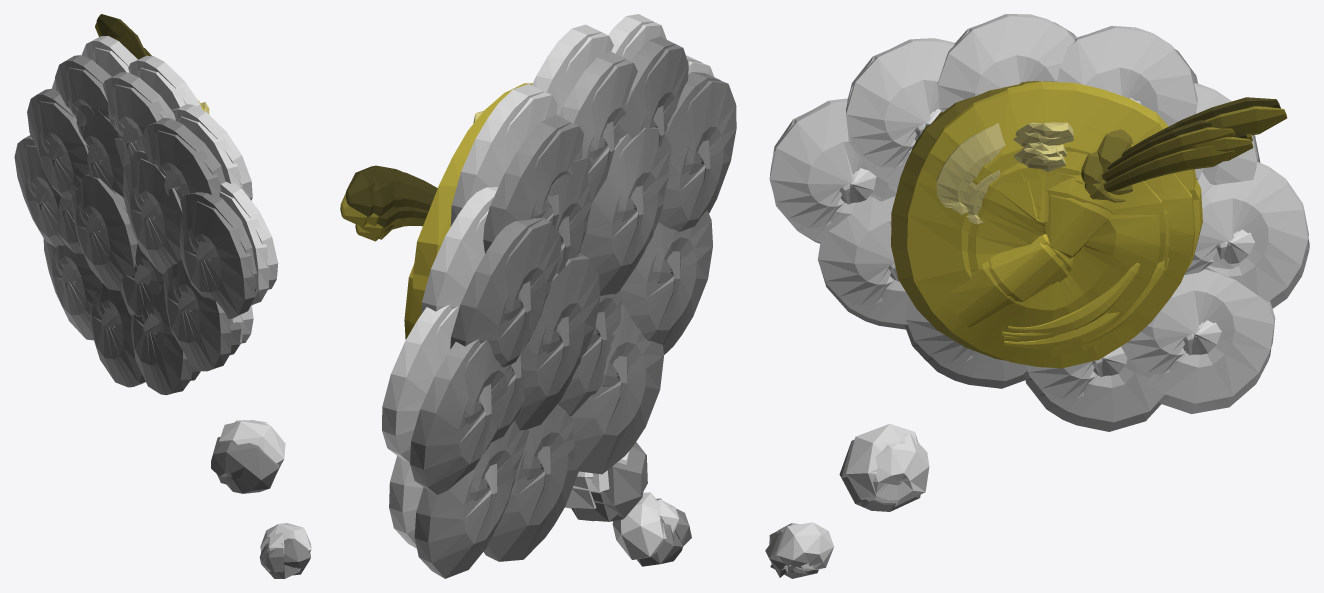
The model's file is WantApple.fbx.
3 views of the same model, side by side, from view 1: azimuth 30°, elevation 25°; view 2: azimuth 150°, elevation 25°; view 3: azimuth 270°, elevation 25° (orthographic). The views are drawn at different scales.
Visible parts, largest first — view 1: Apple; view 2: Apple; view 3: Apple.
Boxes of the visible parts, x1=… form: Apple: x1=14, y1=14, x2=311, y2=578; Apple: x1=340, y1=14, x2=736, y2=578; Apple: x1=765, y1=14, x2=1309, y2=578.
Bounding box in the file's own units: 0.3132 × 1.29 × 1.17.
